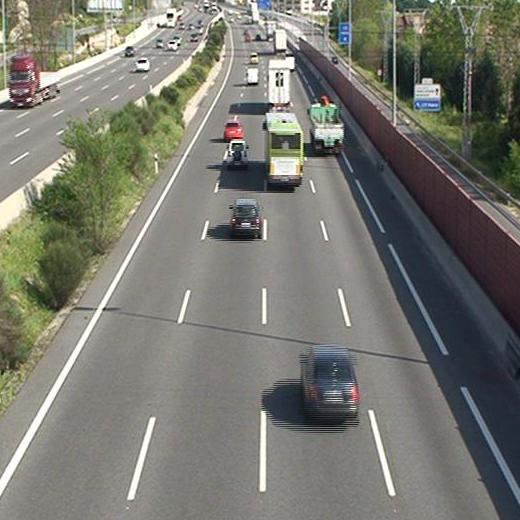bus: (266, 113, 303, 183)
car: (301, 348, 358, 416), (231, 200, 261, 234), (227, 142, 248, 167), (224, 123, 242, 140), (249, 54, 258, 63)
small-truck: (311, 103, 344, 152)
truck: (268, 61, 288, 111), (273, 29, 287, 52)
van: (248, 69, 258, 85)
